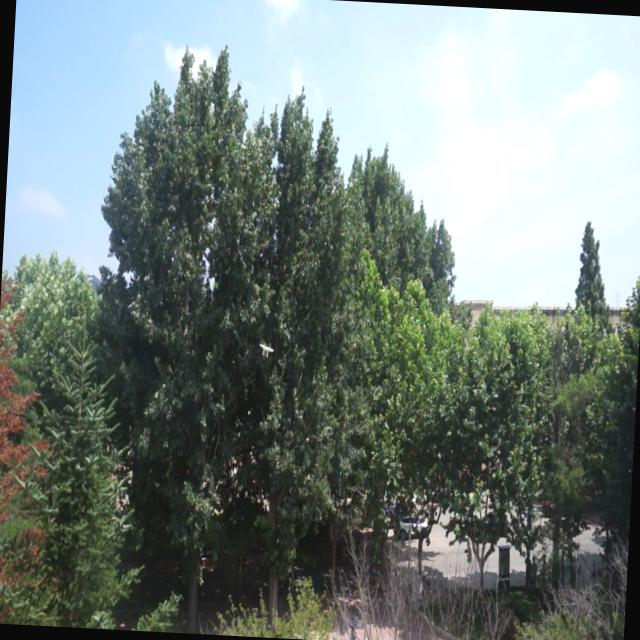drone: (256, 341, 278, 361)
